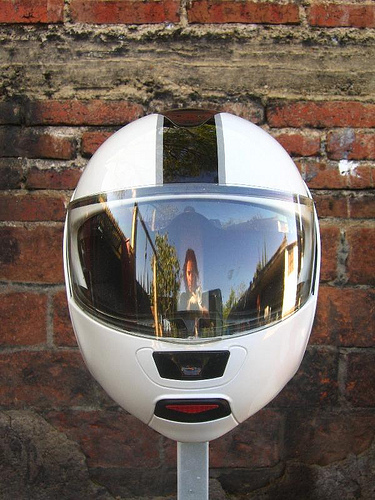helmet: (77, 120, 325, 414)
